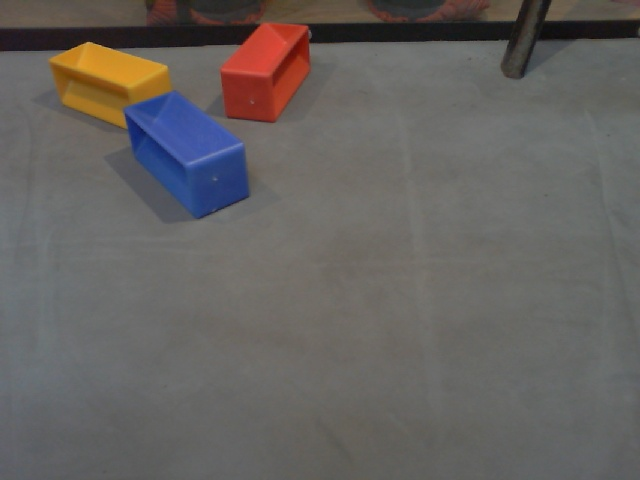BlueSample: (121, 90, 251, 221)
RedSample: (218, 20, 312, 124)
YellowSample: (45, 40, 172, 131)
